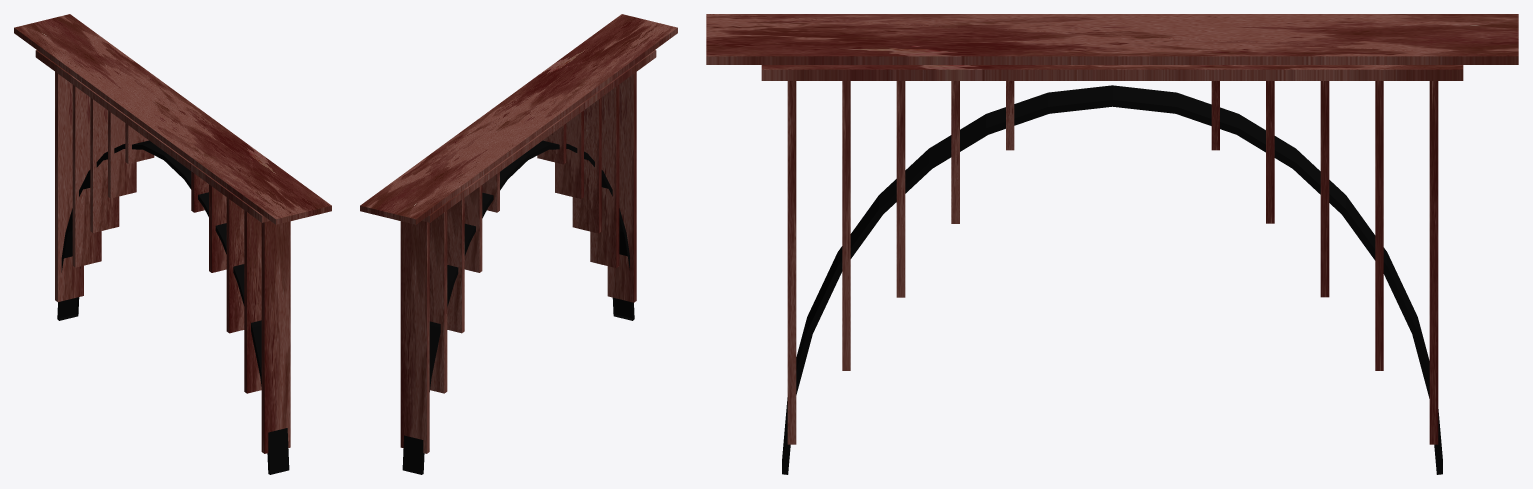
The model's file is bridgeExport.fbx.
3 views of the same model, side by side, from view 1: azimuth 30°, elevation 25°; view 2: azimuth 150°, elevation 25°; view 3: azimuth 270°, elevation 25° (orthographic). The views are drawn at different scales.
Parts seen in each view (by area): view 1: Plane.012; view 2: Plane.012; view 3: Plane.012.
Part boxes in pixels (x1,y1,x2,y2): Plane.012: (14, 14, 331, 474); Plane.012: (360, 14, 677, 474); Plane.012: (706, 14, 1518, 474).
Size of the model in its own units: 24.68 by 117 by 200.
Materials: 2 (1 with a texture image).
